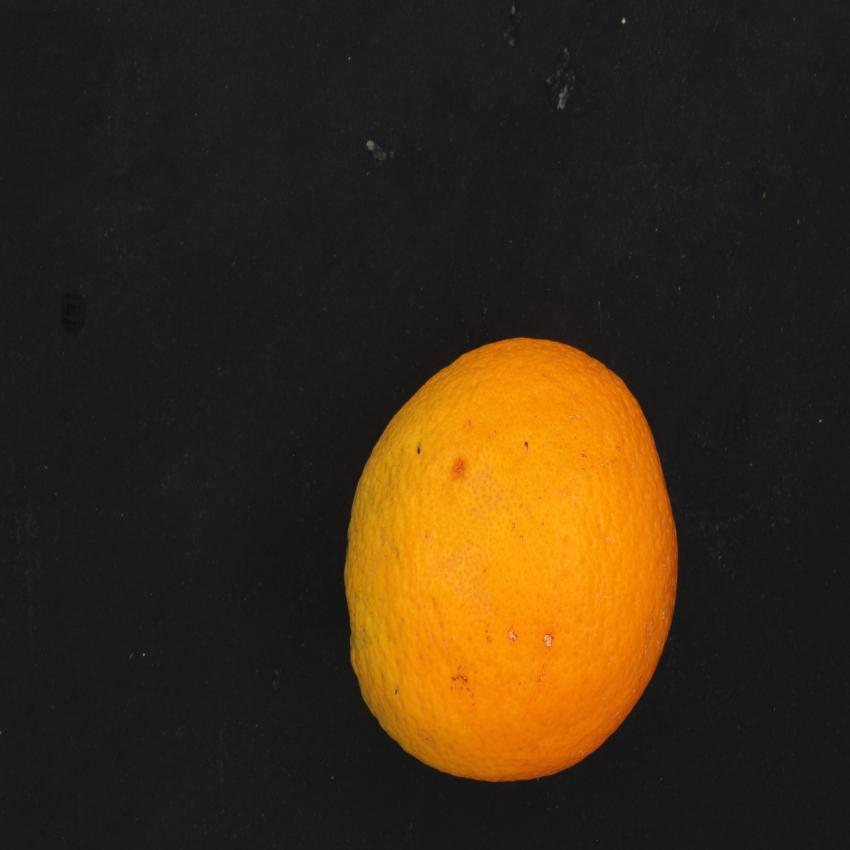Mal estado: (337, 333, 698, 792)
